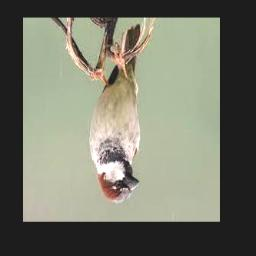Sparrow: (88, 25, 141, 204)
